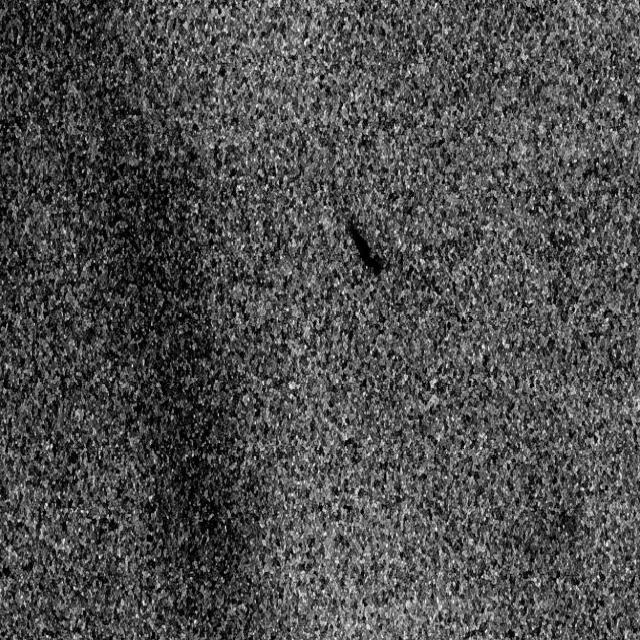look-alike: (2, 8, 259, 628)
oil-spill: (336, 201, 390, 291)
